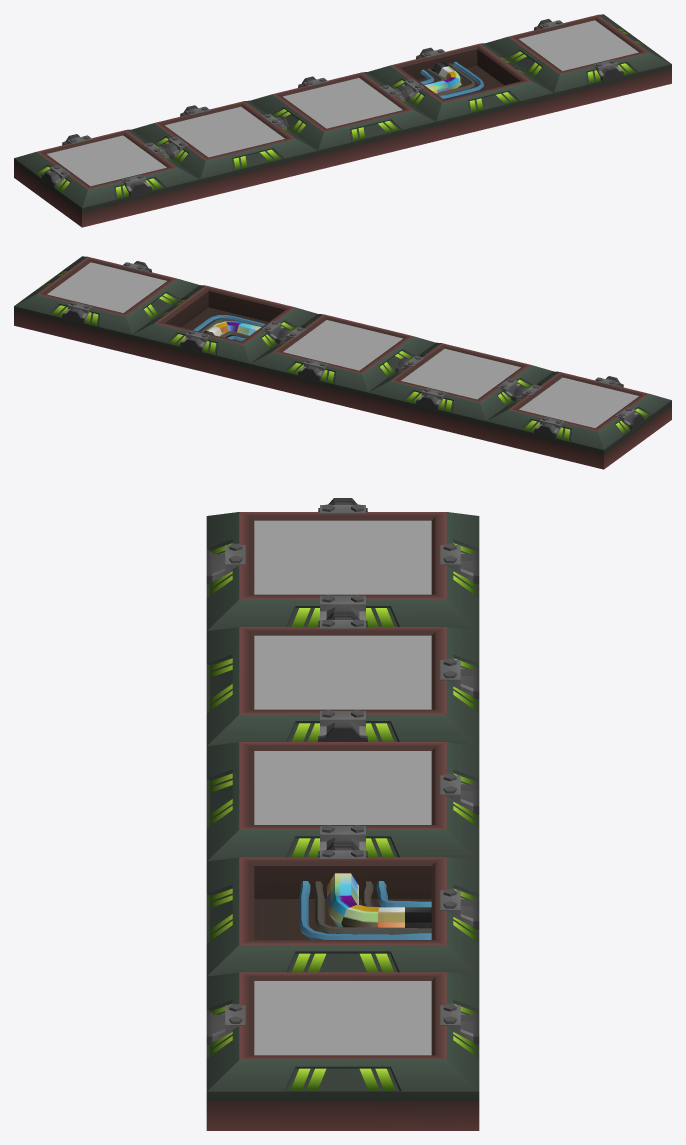
The model's file is conexiones nuevas.fbx.
3 renders of one model, top to bottom at view 1: azimuth 30°, elevation 25°; view 2: azimuth 150°, elevation 25°; view 3: azimuth 270°, elevation 25°, orthographic. The views are drawn at different scales.
Visible parts, largest first — view 1: modulo (×5), vidrio (×4), cables, cable_principal; view 2: modulo (×5), vidrio (×4), cables, cable_principal; view 3: modulo (×5), vidrio (×4), cables, cable_principal.
Boxes of the visible parts, <box> form: modulo (×5): <box>14,14,671,227</box>; vidrio (×4): <box>47,20,638,186</box>; cables: <box>420,62,483,99</box>; cable_principal: <box>424,61,461,93</box>; modulo (×5): <box>14,256,671,469</box>; vidrio (×4): <box>47,262,638,428</box>; cables: <box>193,315,265,341</box>; cable_principal: <box>204,321,261,336</box>; modulo (×5): <box>206,498,479,1130</box>; vidrio (×4): <box>254,520,431,1055</box>; cables: <box>299,881,431,939</box>; cable_principal: <box>327,873,431,928</box>.
Bounding box in the file's own units: 500 × 24.48 × 100.
